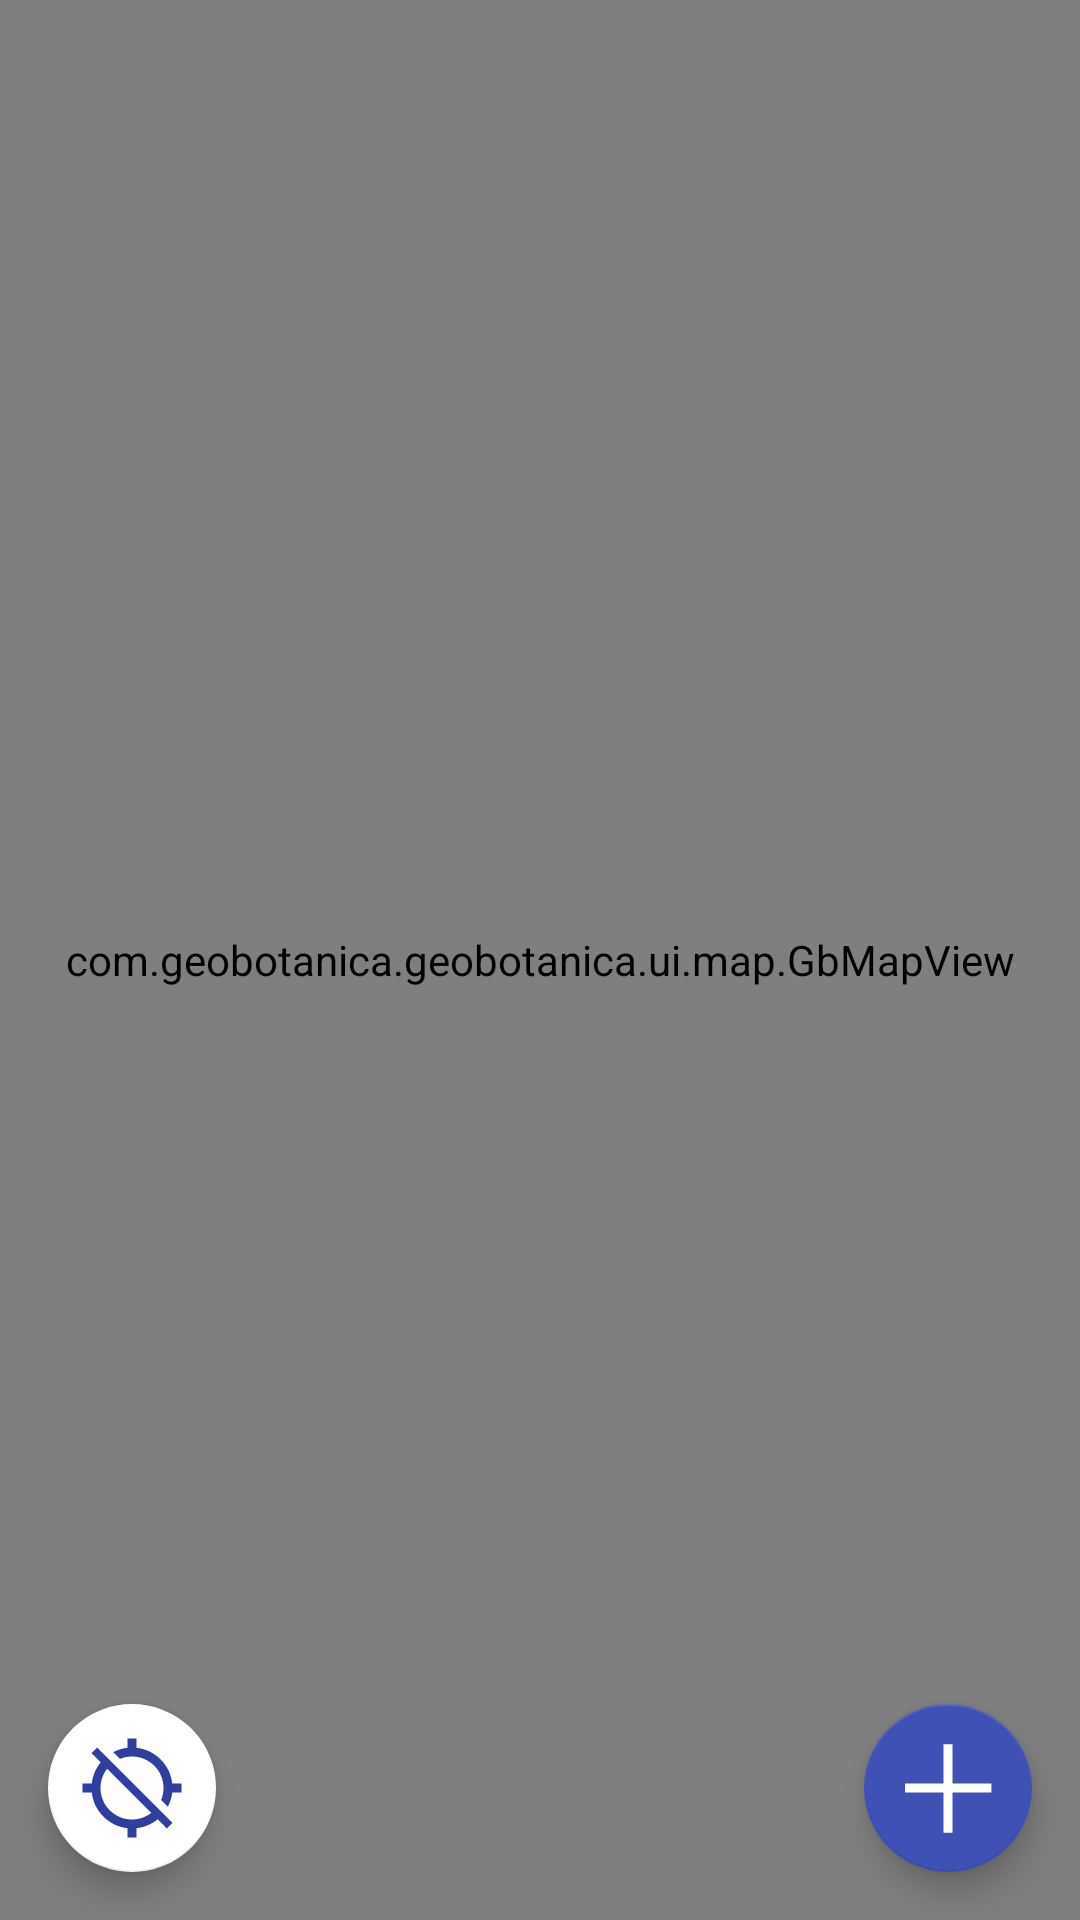

Named icons in this screenshot (1080px x 1920px) and their centers, [x,y]:
add: [948,1788]
gps off: [132,1788]
